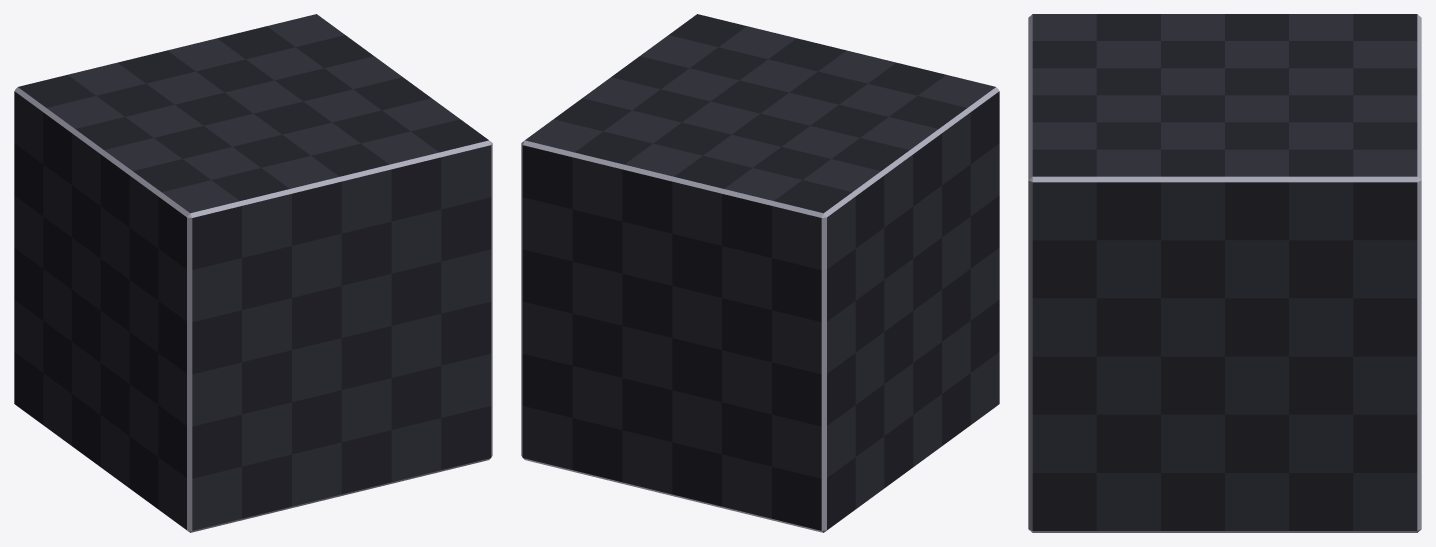
The model's file is PMP-M-Ground-Main-2x2x2-V1.fbx.
3 views of the same model, side by side, from view 1: azimuth 30°, elevation 25°; view 2: azimuth 150°, elevation 25°; view 3: azimuth 270°, elevation 25° (orthographic). The views are drawn at different scales.
Parts seen in each view (by area): view 1: MONO_Terrain-A-2x2x2; view 2: MONO_Terrain-A-2x2x2; view 3: MONO_Terrain-A-2x2x2.
Part boxes in pixels (x1,y1,x2,y2): MONO_Terrain-A-2x2x2: (14, 14, 492, 532); MONO_Terrain-A-2x2x2: (521, 14, 999, 532); MONO_Terrain-A-2x2x2: (1028, 14, 1421, 532).
Bounding box in the file's own units: 200 × 200 × 200.
